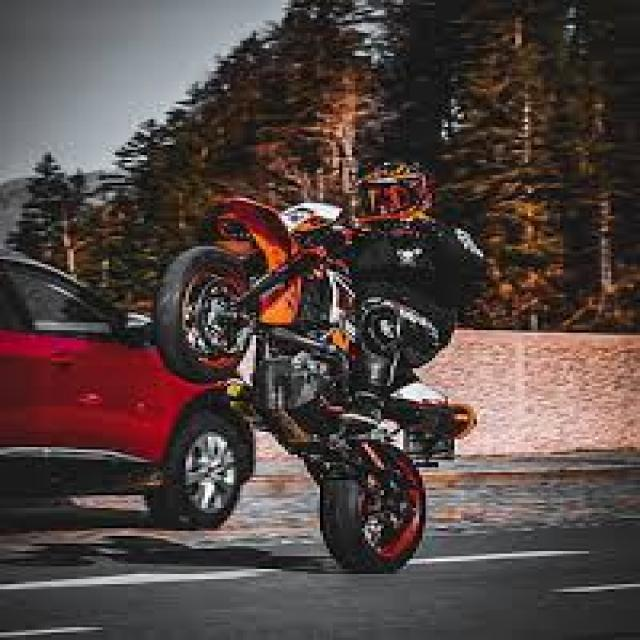Wheeling: (174, 154, 472, 559)
